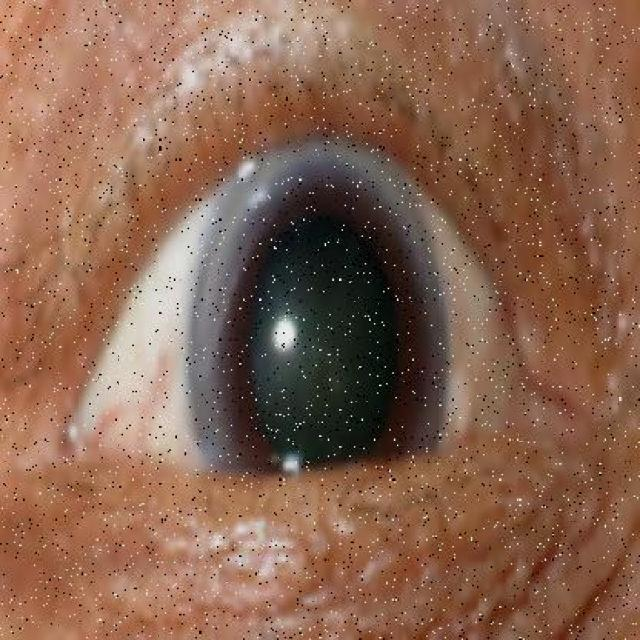Cataract: (158, 80, 482, 550)
